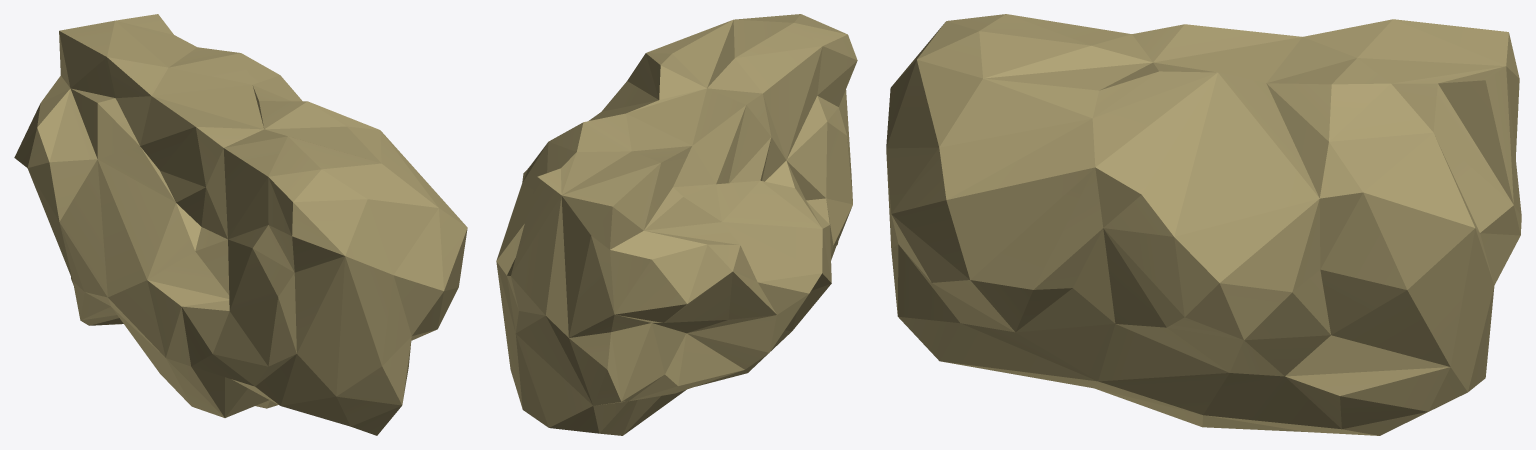
The model's file is SM_rock_63.fbx.
The picture shows the model from 3 angles, left to right: view 1: azimuth 30°, elevation 25°; view 2: azimuth 150°, elevation 25°; view 3: azimuth 270°, elevation 25°; orthographic projection. The views are drawn at different scales.
Parts seen in each view (by area): view 1: rock_63; view 2: rock_63; view 3: rock_63.
Part boxes in pixels (<box>): rock_63: <box>14,14,467,435</box>; rock_63: <box>496,14,857,435</box>; rock_63: <box>886,14,1521,435</box>.
Size of the model in its own units: 135 by 137 by 207.
